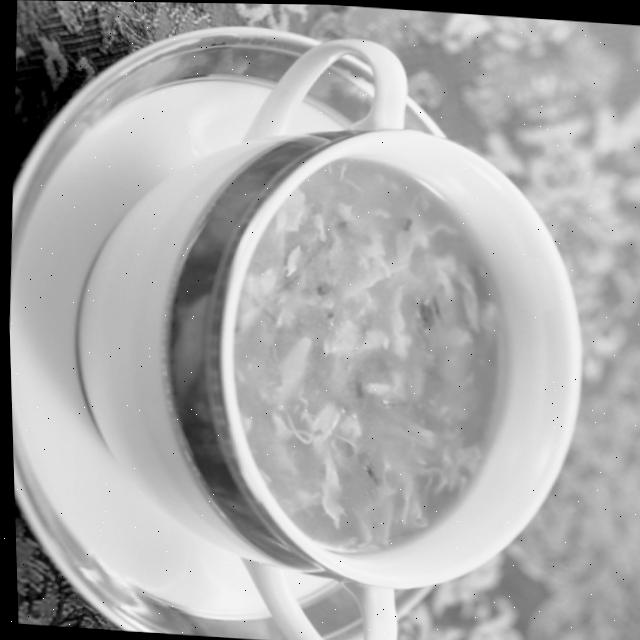汤锅炖物: (60, 17, 592, 640)
